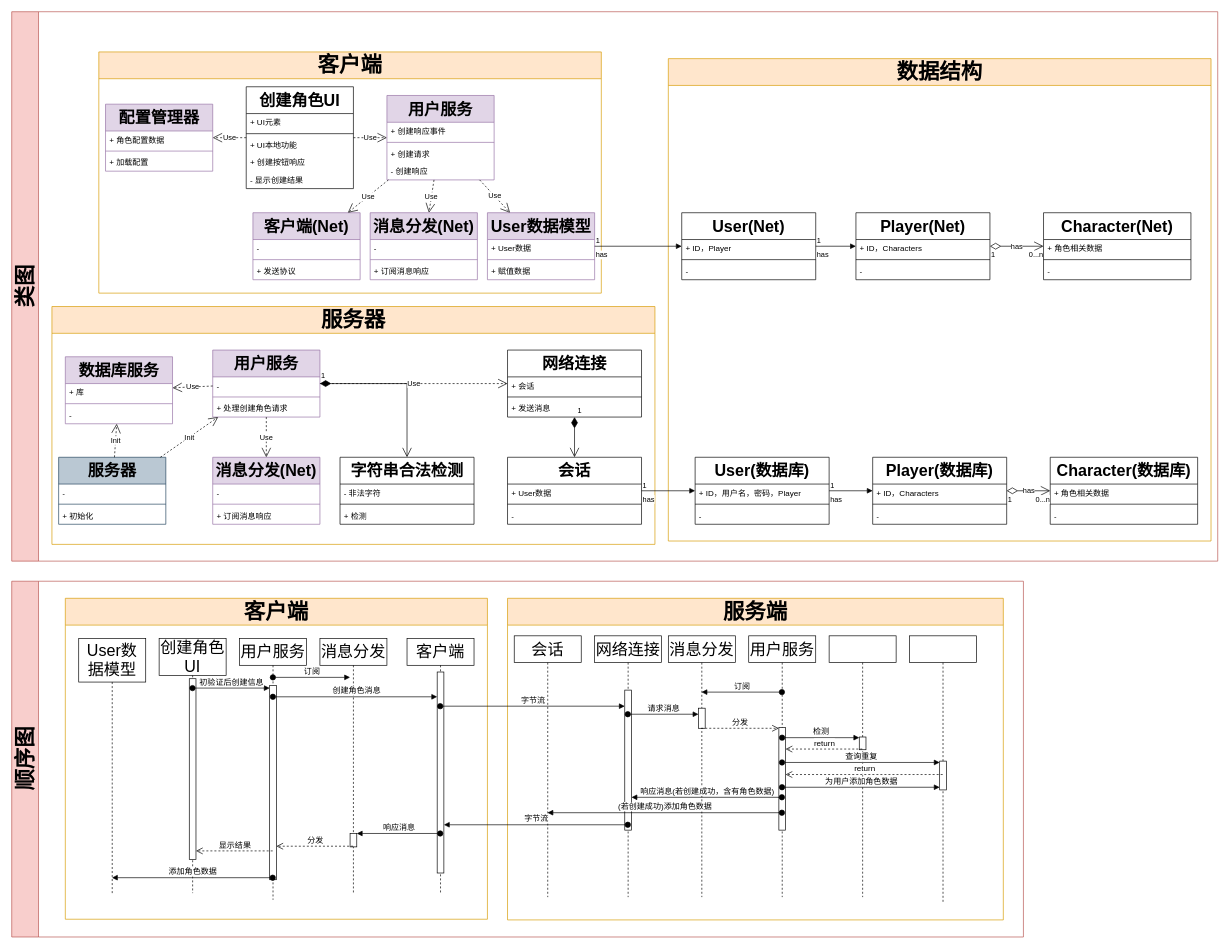
The diagram is 1229 pixels wide and 949 high, and some of its shapes have lost their labels. Each missing label, with the centre of its shape:
合法检测: the point at 862,766
数据库: the point at 943,769
